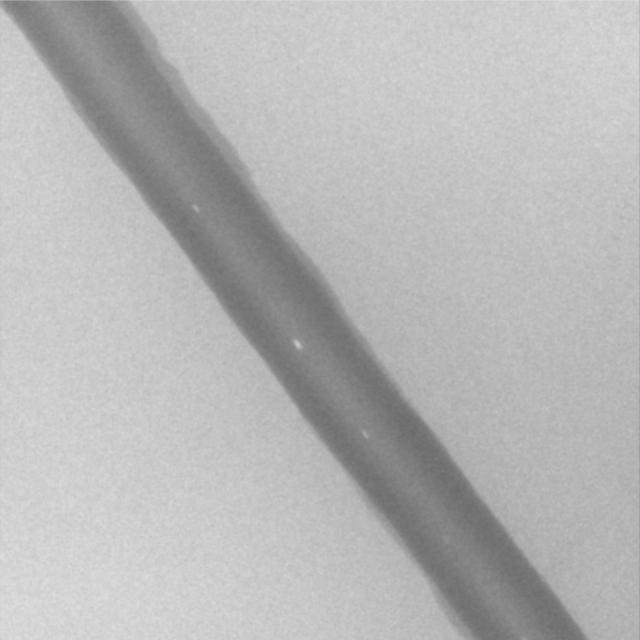air hole: (292, 338, 303, 351), (361, 427, 369, 441), (192, 204, 201, 216)
